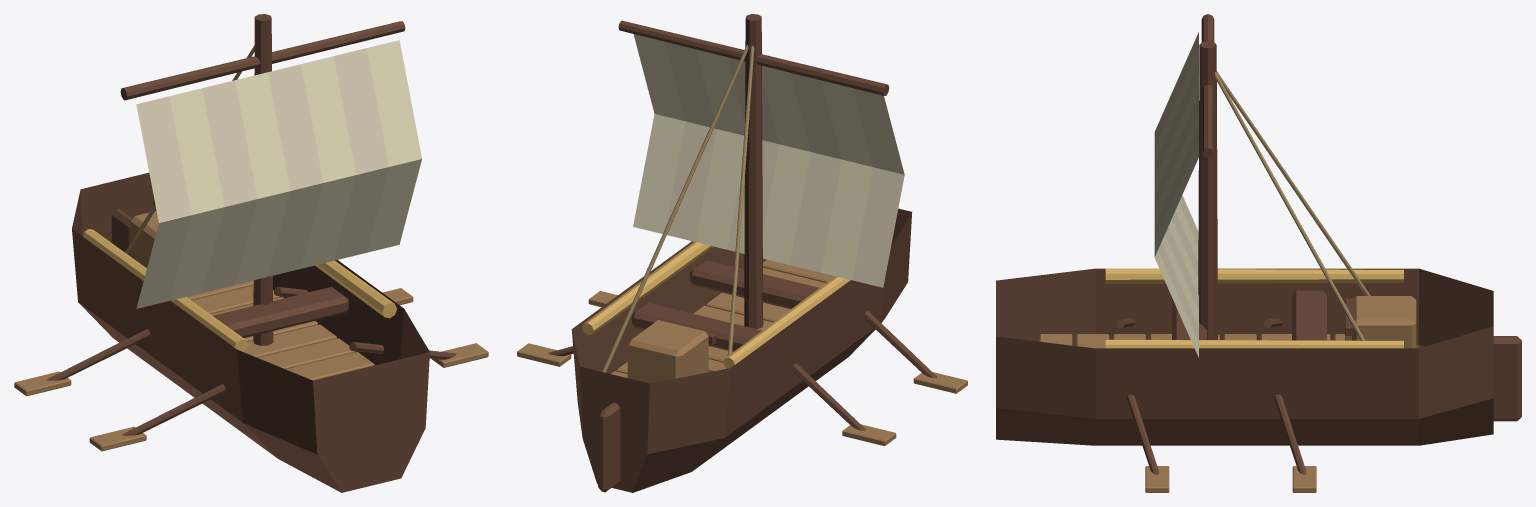
Rendered from boat.glb.
3 renders of one model, left to right at view 1: azimuth 30°, elevation 25°; view 2: azimuth 150°, elevation 25°; view 3: azimuth 270°, elevation 25°, orthographic. The views are drawn at different scales.
Visible parts, largest first — view 1: Geometry; view 2: Geometry; view 3: Geometry.
Part boxes in pixels (bbox=[...]): Geometry: bbox=[14, 14, 488, 492]; Geometry: bbox=[517, 14, 967, 492]; Geometry: bbox=[996, 14, 1521, 492].
Bounding box in the file's own units: 2.38 × 2.28 × 2.85.
